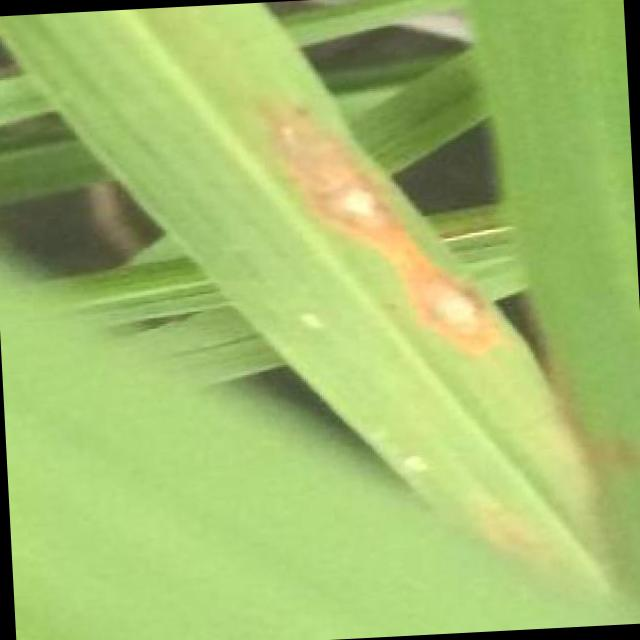Rice_Blast: (244, 81, 408, 251), (392, 255, 508, 356)
